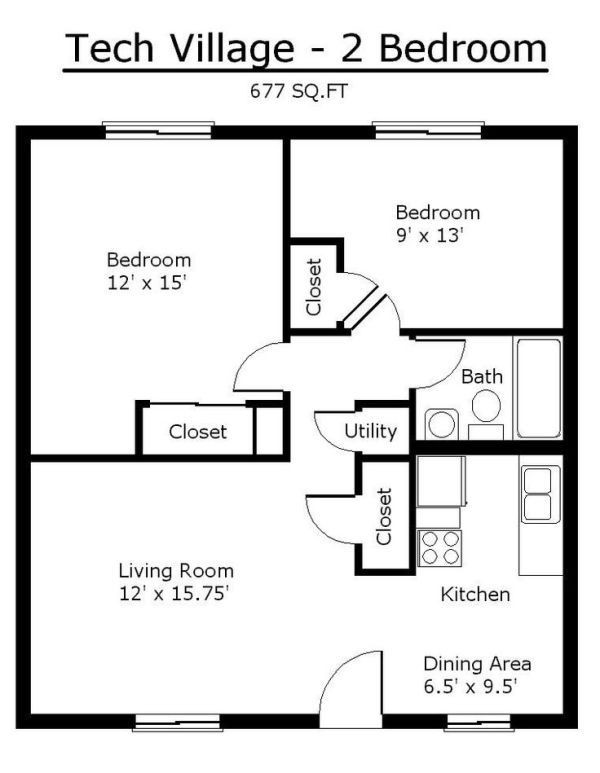door: (312, 618, 394, 737), (404, 328, 482, 409), (327, 264, 407, 339), (205, 334, 293, 397), (291, 479, 363, 554), (310, 398, 361, 459)
room: (18, 461, 414, 722), (21, 127, 284, 462), (358, 458, 584, 725), (284, 128, 566, 331), (404, 328, 571, 450), (288, 337, 414, 459)
wall: (551, 111, 584, 737), (9, 122, 40, 732), (14, 437, 293, 468), (214, 111, 379, 158), (268, 118, 300, 346), (14, 690, 134, 742), (404, 423, 587, 457), (220, 697, 320, 744), (401, 317, 581, 339), (404, 387, 424, 578), (16, 112, 106, 151), (509, 700, 593, 740), (481, 114, 592, 142), (383, 705, 449, 748), (352, 387, 425, 418), (277, 225, 349, 256), (125, 389, 154, 464), (274, 391, 302, 466), (273, 314, 353, 340), (343, 562, 423, 584), (325, 225, 355, 276), (343, 542, 370, 581)
window: (374, 109, 483, 164), (106, 106, 212, 150), (134, 696, 223, 745), (444, 704, 514, 742)
